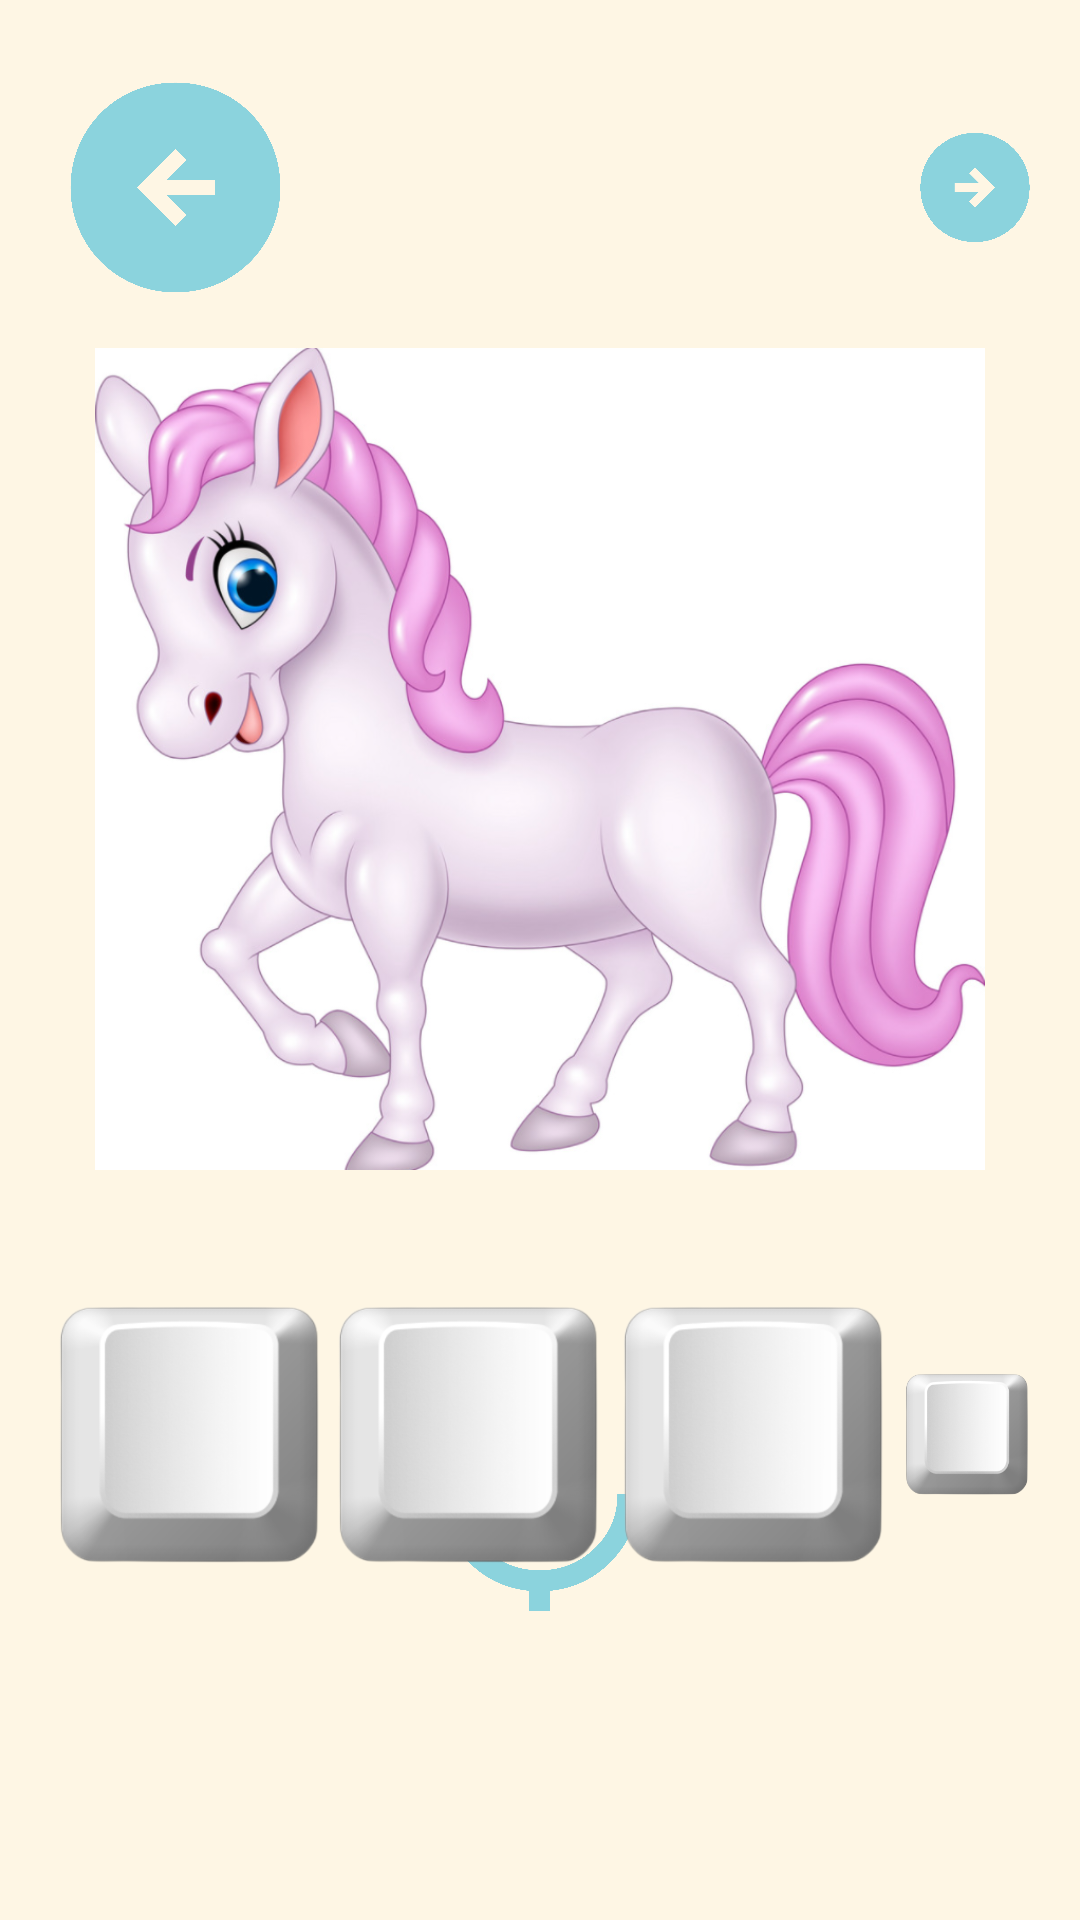

Where icons sit on this 1080px x 1920px app screen, as BBox(x1, y1, x2, y2):
back: BBox(71, 83, 280, 292)
next: BBox(920, 133, 1030, 242)
